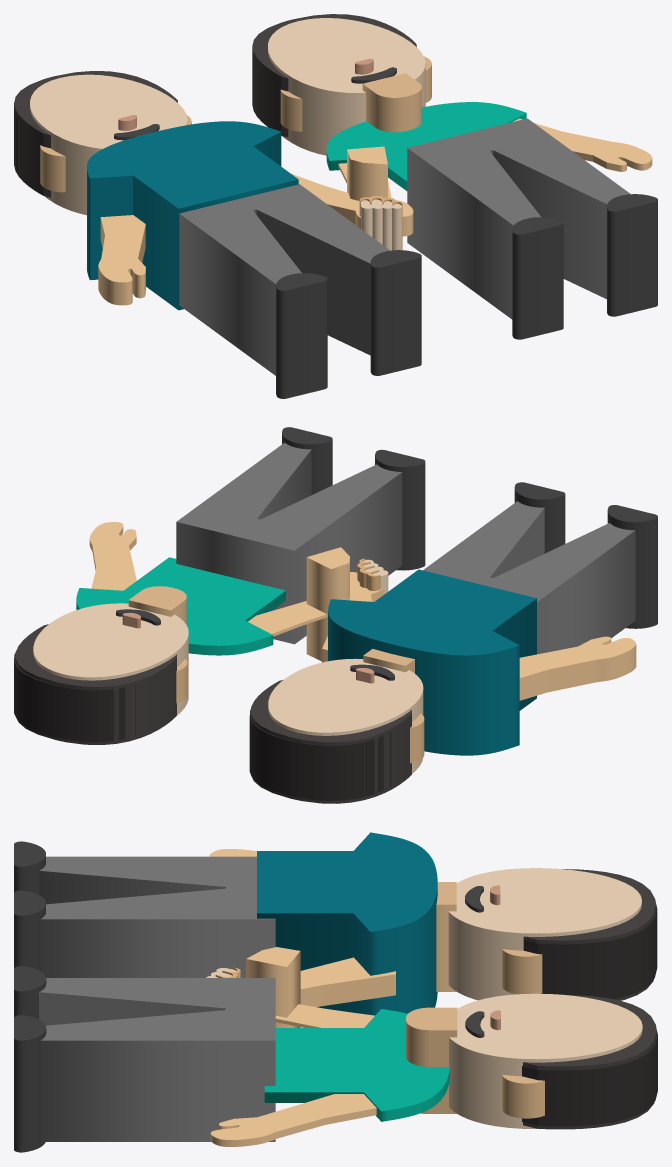
The model's file is emoji_u1f46c_1f3fb.glb.
3 renders of one model, top to bottom at view 1: azimuth 30°, elevation 25°; view 2: azimuth 150°, elevation 25°; view 3: azimuth 270°, elevation 25°, orthographic. The views are drawn at different scales.
Visible parts, largest first — view 1: emoji_u1f46c_1f3fb; view 2: emoji_u1f46c_1f3fb; view 3: emoji_u1f46c_1f3fb.
Boxes of the visible parts, x1,y1,x2,y2 form: emoji_u1f46c_1f3fb: (14,14,657,398); emoji_u1f46c_1f3fb: (14,427,657,803); emoji_u1f46c_1f3fb: (14,832,657,1152).
Bounding box in the file's own units: 0.0346 × 0.0066 × 0.0334.
